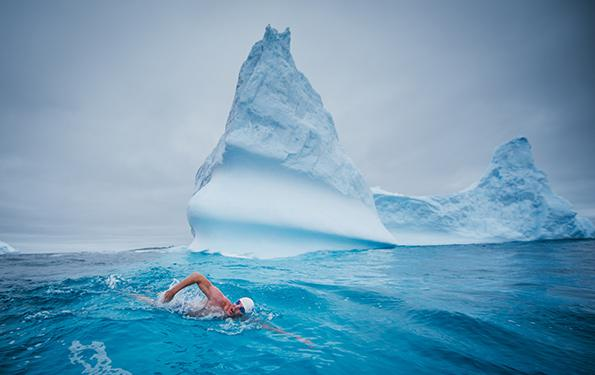human: (151, 269, 259, 329)
